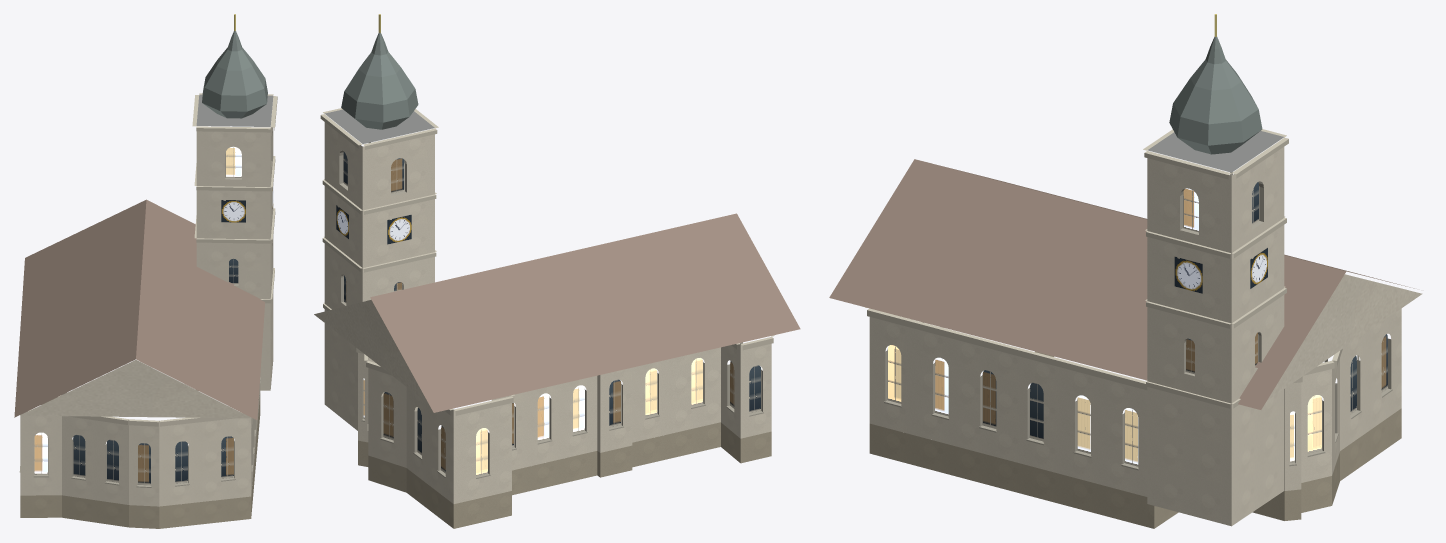
The model's file is stjoseph.glb.
The picture shows the model from 3 angles, left to right: view 1: azimuth 30°, elevation 25°; view 2: azimuth 150°, elevation 25°; view 3: azimuth 270°, elevation 25°; orthographic projection. The views are drawn at different scales.
Visible parts, largest first — view 1: stjoseph; view 2: stjoseph; view 3: stjoseph.
Part boxes in pixels (<box>): stjoseph: <box>14,14,277,528</box>; stjoseph: <box>314,14,800,528</box>; stjoseph: <box>829,14,1422,528</box>.
Bounding box in the file's own units: 49.15 × 51.2 × 54.53.
3 materials, 3 textured.
